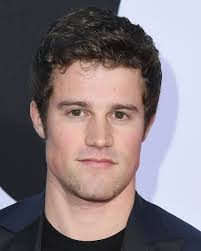s.white: (107, 122, 139, 168)
